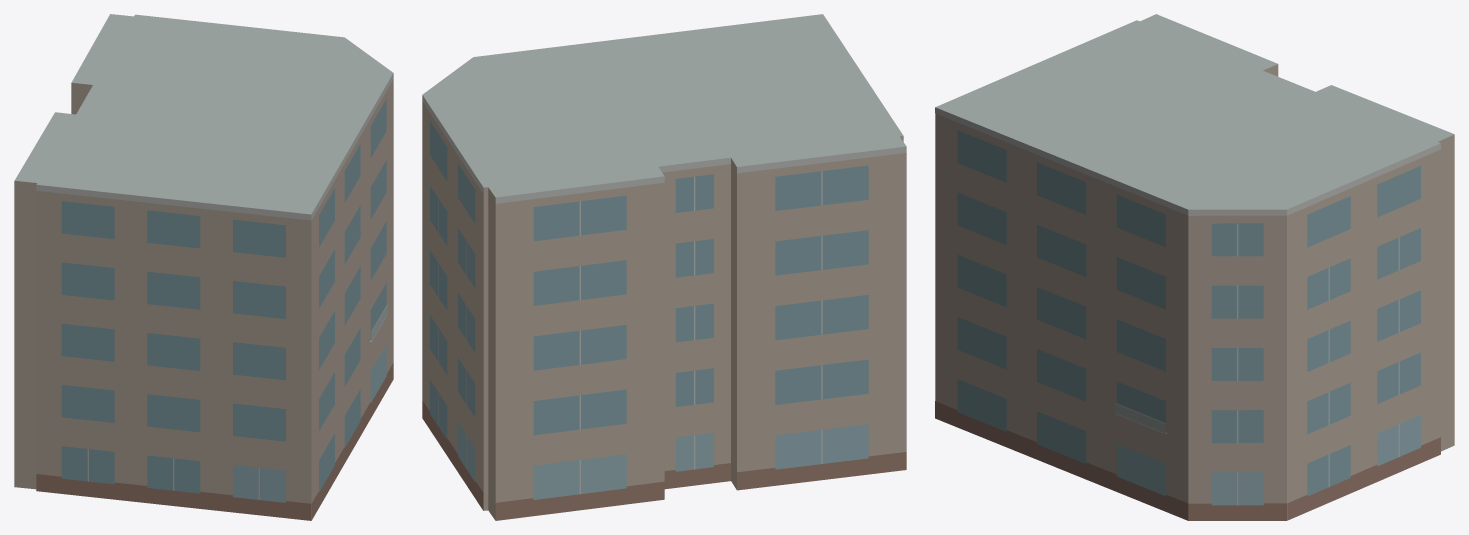
File: survey-upis-32997960.glb
The picture shows the model from 3 angles, left to right: view 1: azimuth 30°, elevation 25°; view 2: azimuth 150°, elevation 25°; view 3: azimuth 270°, elevation 25°; orthographic projection. The views are drawn at different scales.
Parts seen in each view (by area): view 1: survey-upis-32997960.tmp; view 2: survey-upis-32997960.tmp; view 3: survey-upis-32997960.tmp.
Boxes of the visible parts, box(x1,y1,x2,y2) form: survey-upis-32997960.tmp: box(14, 14, 393, 520); survey-upis-32997960.tmp: box(422, 14, 906, 520); survey-upis-32997960.tmp: box(935, 14, 1454, 520).
Bounding box in the file's own units: 16.74 × 12.4 × 18.77.
